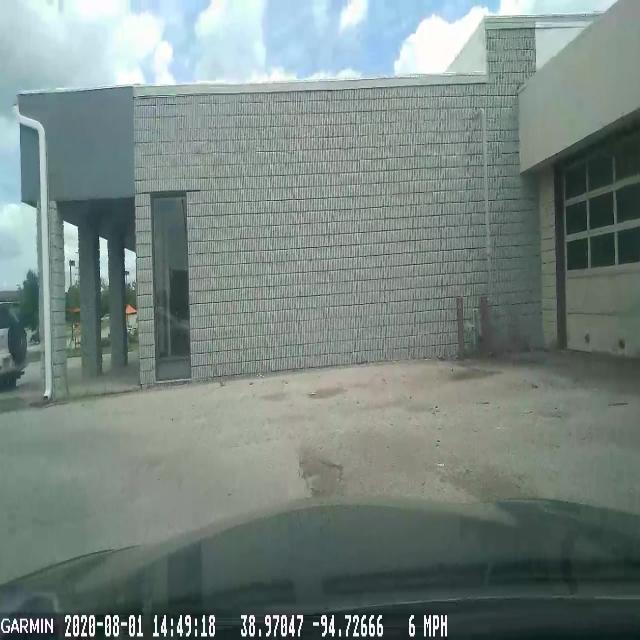Pothole: (295, 440, 346, 502)
